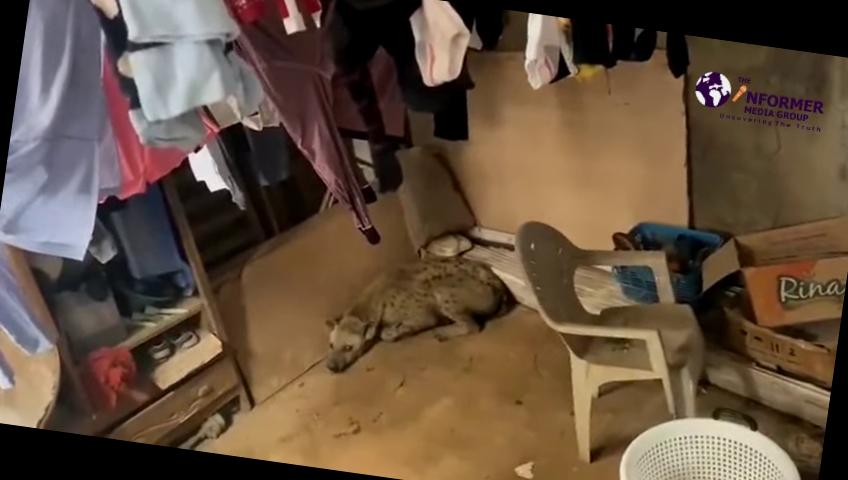hyenas: (292, 226, 512, 394)
